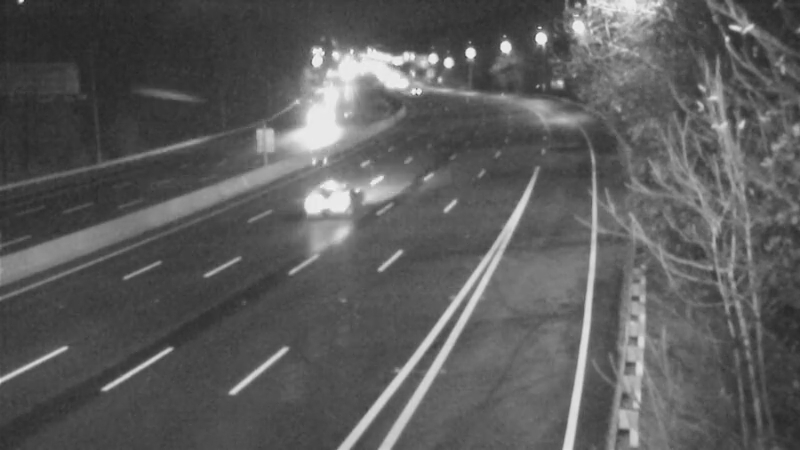vehicle: (282, 165, 362, 245), (386, 65, 436, 115), (294, 90, 344, 140)
